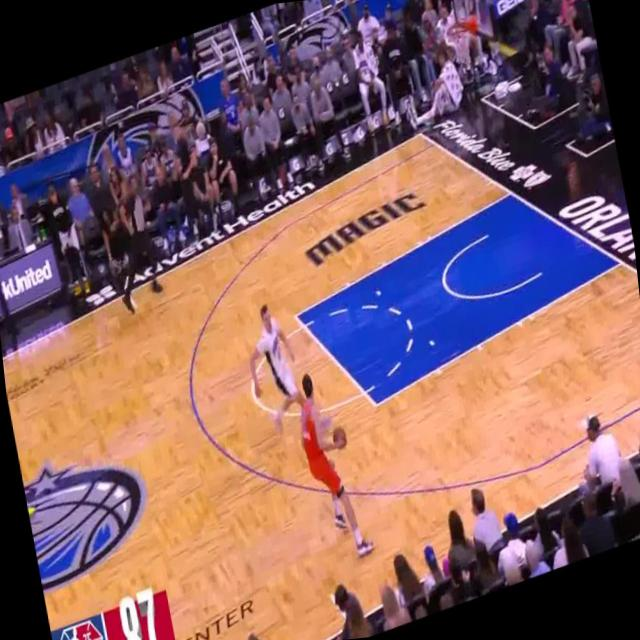ball-handler: (286, 358, 382, 574)
